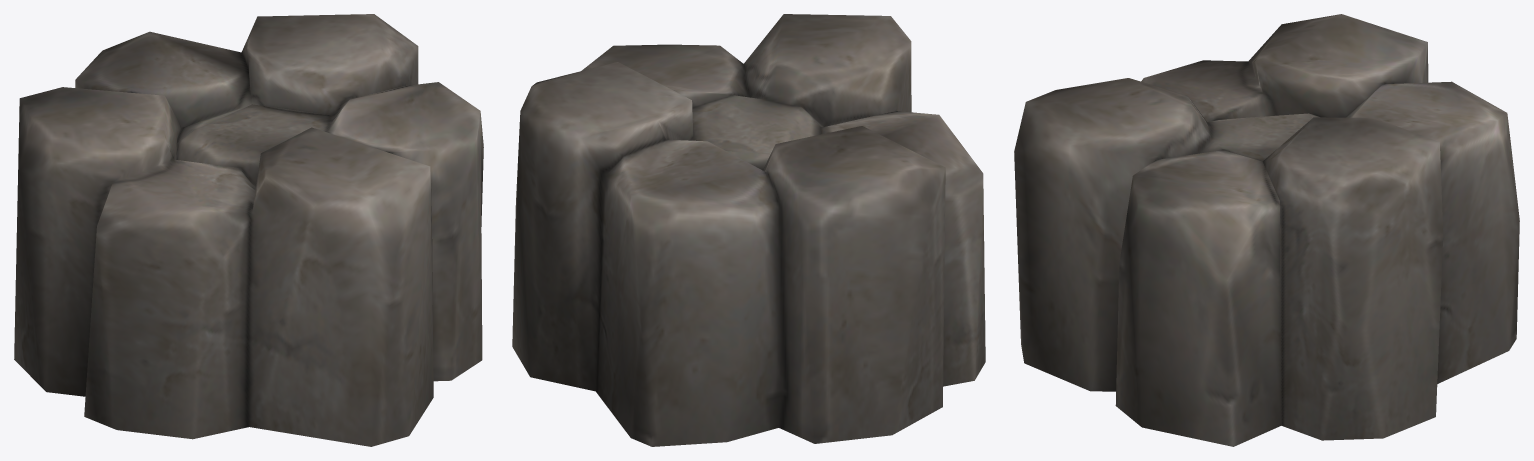
The model's file is Rock02.FBX.
3 renders of one model, left to right at view 1: azimuth 30°, elevation 25°; view 2: azimuth 150°, elevation 25°; view 3: azimuth 270°, elevation 25°, orthographic.
Parts seen in each view (by area): view 1: Rock02; view 2: Rock02; view 3: Rock02.
Boxes of the visible parts, left/top/right/bottom form: Rock02: left=14, top=14, right=483, bottom=446; Rock02: left=512, top=14, right=985, bottom=446; Rock02: left=1014, top=14, right=1519, bottom=446.
Bounding box in the file's own units: 4.83 × 5.2 × 2.91.
